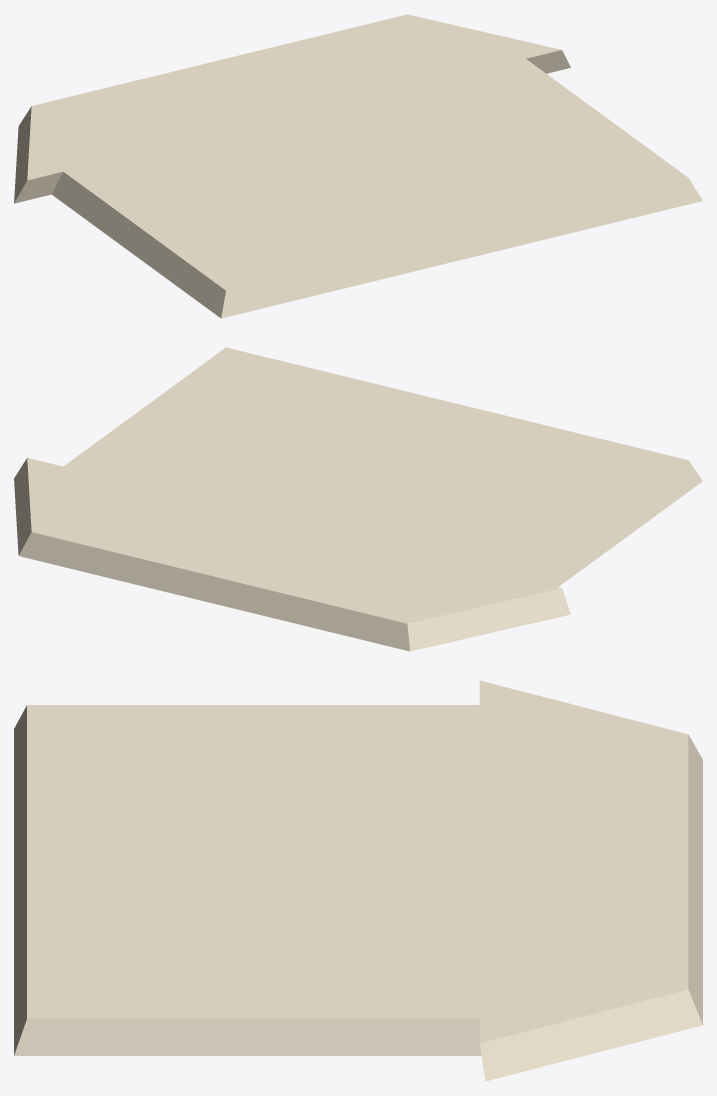
Rendered from SunnyLoop_Space_Symbol_Shop_v1.glb.
The picture shows the model from 3 angles, top to bottom: view 1: azimuth 30°, elevation 25°; view 2: azimuth 150°, elevation 25°; view 3: azimuth 270°, elevation 25°; orthographic projection. The views are drawn at different scales.
Parts seen in each view (by area): view 1: SunnyLoop_Space_Symbol_Shop_v1; view 2: SunnyLoop_Space_Symbol_Shop_v1; view 3: SunnyLoop_Space_Symbol_Shop_v1.
Part boxes in pixels (bbox=[...]): SunnyLoop_Space_Symbol_Shop_v1: bbox=[14, 14, 702, 318]; SunnyLoop_Space_Symbol_Shop_v1: bbox=[14, 347, 702, 651]; SunnyLoop_Space_Symbol_Shop_v1: bbox=[14, 680, 702, 1081].
Size of the model in its own units: 1.04 by 0.0392 by 0.798.
